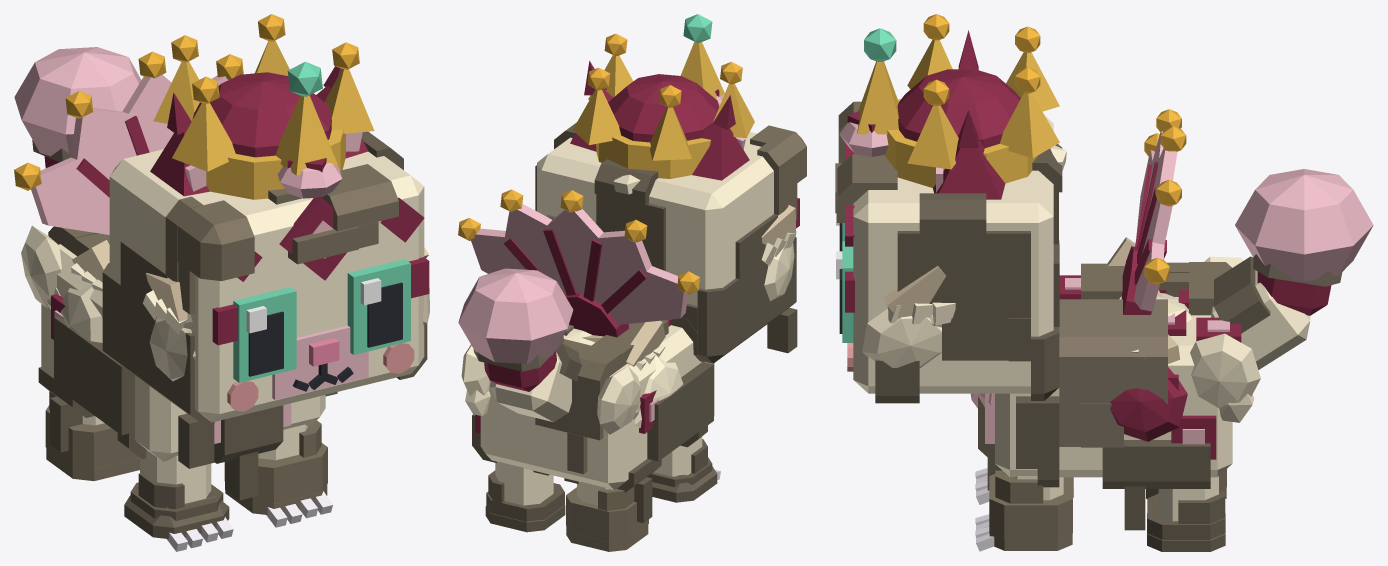
The model's file is CleanACat_Cat_Rosette_Dirty.fbx.
The picture shows the model from 3 angles, left to right: view 1: azimuth 30°, elevation 25°; view 2: azimuth 150°, elevation 25°; view 3: azimuth 270°, elevation 25°; orthographic projection. The views are drawn at different scales.
Visible parts, largest first — view 1: CleanACat_Cat_Rosette_Dirty_Head, CleanACat_Cat_Rosette_Dirty_Prop, CleanACat_Cat_Rosette_Dirty_Prop2, CleanACat_Cat_Rosette_Dirty_Mud01, CleanACat_Cat_Rosette_Dirty_Tail_Rose, CleanACat_Cat_Rosette_Dirty_Mud06, CleanACat_Cat_Rosette_Dirty_Body, CleanACat_Cat_Rosette_Dirty_Mud10, CleanACat_Cat_Rosette_Dirty_Mud03, CleanACat_Cat_Rosette_Dirty_Eye1, CleanACat_Cat_Rosette_Dirty_Eye2, CleanACat_Cat_Rosette_Dirty_Mud15 (+17 smaller); view 2: CleanACat_Cat_Rosette_Dirty_Prop2, CleanACat_Cat_Rosette_Dirty_Head, CleanACat_Cat_Rosette_Dirty_Prop, CleanACat_Cat_Rosette_Dirty_Body, CleanACat_Cat_Rosette_Dirty_Tail_Rose, CleanACat_Cat_Rosette_Dirty_Mud01, CleanACat_Cat_Rosette_Dirty_Mud09, CleanACat_Cat_Rosette_Dirty_Mud10, CleanACat_Cat_Rosette_Dirty_Mud04, CleanACat_Cat_Rosette_Dirty_Mud18, CleanACat_Cat_Rosette_Dirty_Tail, CleanACat_Cat_Rosette_Dirty_Mud06 (+19 smaller); view 3: CleanACat_Cat_Rosette_Dirty_Head, CleanACat_Cat_Rosette_Dirty_Mud02, CleanACat_Cat_Rosette_Dirty_Prop, CleanACat_Cat_Rosette_Dirty_Mud08, CleanACat_Cat_Rosette_Dirty_Tail_Rose, CleanACat_Cat_Rosette_Dirty_Body, CleanACat_Cat_Rosette_Dirty_Mud11, CleanACat_Cat_Rosette_Dirty_Mud15, CleanACat_Cat_Rosette_Dirty_Prop2, CleanACat_Cat_Rosette_Dirty_Tail, CleanACat_Cat_Rosette_Dirty_Fluff09, CleanACat_Cat_Rosette_Dirty_Mud17 (+17 smaller).
Boxes of the visible parts, left/top/right/bottom form: CleanACat_Cat_Rosette_Dirty_Head: left=109, top=149, right=429, bottom=422; CleanACat_Cat_Rosette_Dirty_Prop: left=153, top=40, right=374, bottom=199; CleanACat_Cat_Rosette_Dirty_Prop2: left=31, top=74, right=228, bottom=234; CleanACat_Cat_Rosette_Dirty_Mud01: left=102, top=240, right=214, bottom=468; CleanACat_Cat_Rosette_Dirty_Tail_Rose: left=14, top=47, right=141, bottom=156; CleanACat_Cat_Rosette_Dirty_Mud06: left=165, top=196, right=254, bottom=314; CleanACat_Cat_Rosette_Dirty_Body: left=41, top=244, right=325, bottom=461; CleanACat_Cat_Rosette_Dirty_Mud10: left=54, top=316, right=146, bottom=459; CleanACat_Cat_Rosette_Dirty_Mud03: left=268, top=164, right=398, bottom=264; CleanACat_Cat_Rosette_Dirty_Eye1: left=347, top=259, right=410, bottom=354; CleanACat_Cat_Rosette_Dirty_Eye2: left=233, top=287, right=296, bottom=382; CleanACat_Cat_Rosette_Dirty_Mud15: left=224, top=420, right=327, bottom=514; CleanACat_Cat_Rosette_Dirty_Prop2: left=471, top=203, right=687, bottom=337; CleanACat_Cat_Rosette_Dirty_Head: left=537, top=132, right=799, bottom=305; CleanACat_Cat_Rosette_Dirty_Prop: left=573, top=42, right=754, bottom=178; CleanACat_Cat_Rosette_Dirty_Body: left=475, top=319, right=714, bottom=490; CleanACat_Cat_Rosette_Dirty_Tail_Rose: left=458, top=268, right=573, bottom=363; CleanACat_Cat_Rosette_Dirty_Mud01: left=682, top=214, right=797, bottom=363; CleanACat_Cat_Rosette_Dirty_Mud09: left=535, top=335, right=622, bottom=474; CleanACat_Cat_Rosette_Dirty_Mud10: left=647, top=317, right=713, bottom=461; CleanACat_Cat_Rosette_Dirty_Mud04: left=594, top=159, right=665, bottom=271; CleanACat_Cat_Rosette_Dirty_Mud18: left=566, top=486, right=648, bottom=551; CleanACat_Cat_Rosette_Dirty_Tail: left=484, top=351, right=571, bottom=422; CleanACat_Cat_Rosette_Dirty_Mud06: left=750, top=125, right=806, bottom=219; CleanACat_Cat_Rosette_Dirty_Head: left=845, top=116, right=1053, bottom=393; CleanACat_Cat_Rosette_Dirty_Mud02: left=875, top=193, right=1030, bottom=403; CleanACat_Cat_Rosette_Dirty_Prop: left=839, top=39, right=1059, bottom=187; CleanACat_Cat_Rosette_Dirty_Mud08: left=1059, top=299, right=1167, bottom=447; CleanACat_Cat_Rosette_Dirty_Tail_Rose: left=1235, top=169, right=1373, bottom=281; CleanACat_Cat_Rosette_Dirty_Body: left=985, top=275, right=1241, bottom=477; CleanACat_Cat_Rosette_Dirty_Mud11: left=1102, top=440, right=1210, bottom=530; CleanACat_Cat_Rosette_Dirty_Mud15: left=989, top=470, right=1072, bottom=550; CleanACat_Cat_Rosette_Dirty_Prop2: left=1121, top=131, right=1177, bottom=314; CleanACat_Cat_Rosette_Dirty_Tail: left=1211, top=270, right=1331, bottom=369; CleanACat_Cat_Rosette_Dirty_Fluff09: left=1190, top=333, right=1260, bottom=422; CleanACat_Cat_Rosette_Dirty_Mud17: left=1147, top=491, right=1225, bottom=551.
Bounding box in the file's own units: 1.28 × 2.16 × 2.15.
1 material, 1 textured.
